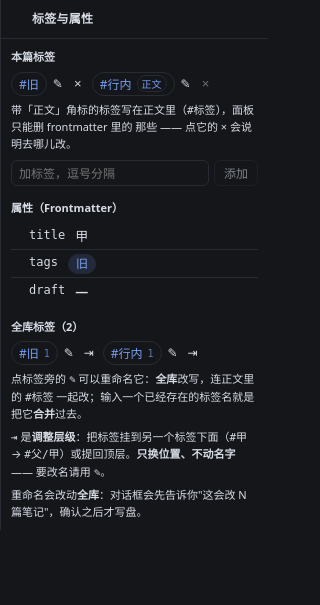
Test case: 标签面板：加标签 › 提交输入框 → frontmatter 真的多了这一项，其它内容一字不动
Expected: the button "#旧" is shown, [11, 72, 47, 96]
Type "新标签" into the field named "添加标签" at {"x": 110, "y": 173}, box [11, 160, 209, 186]
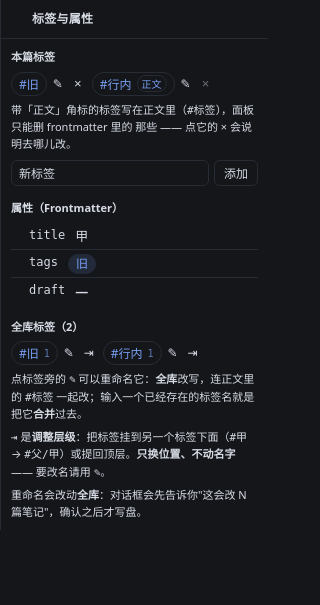
Submit the form named "添加标签", box [11, 160, 258, 186]
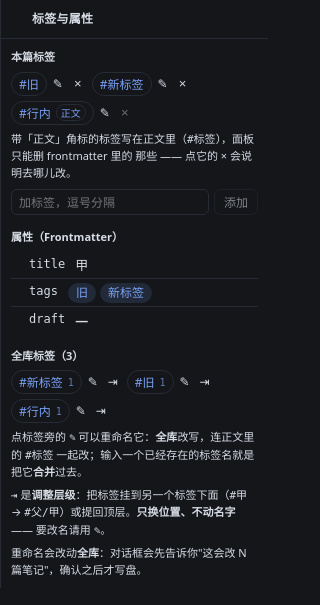
Now the field named "添加标签" is empty, box [11, 189, 209, 215]
Now the button "#新标签" is shown, box [92, 72, 152, 96]
